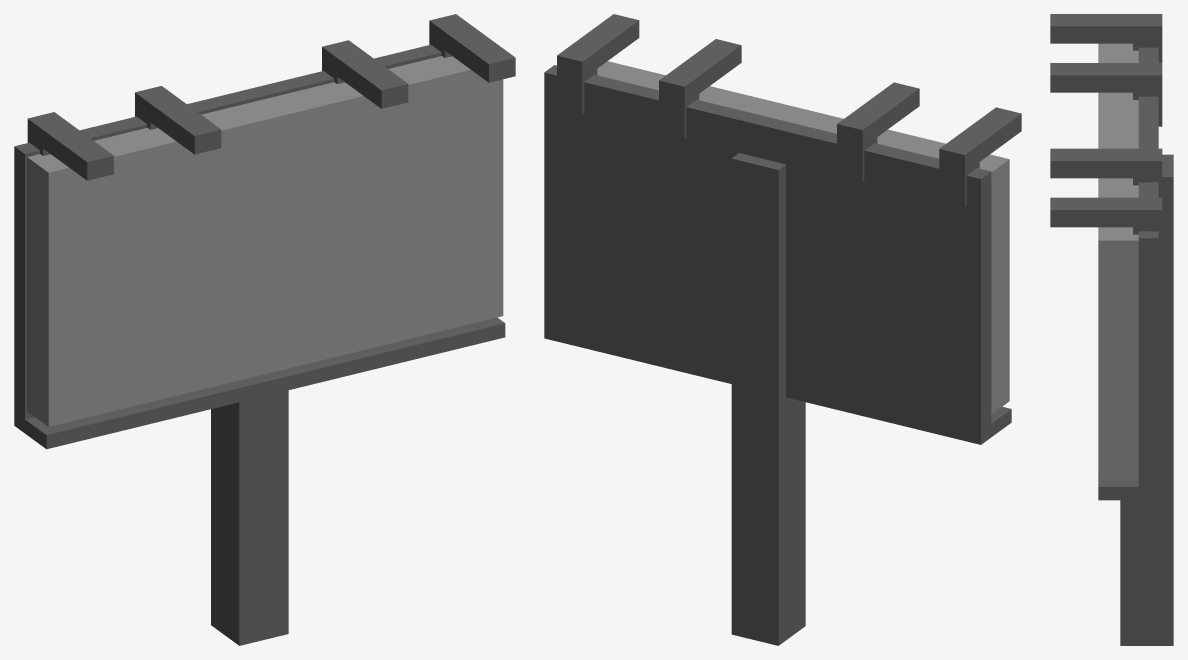
The model's file is Billboard.fbx.
The picture shows the model from 3 angles, left to right: view 1: azimuth 30°, elevation 25°; view 2: azimuth 150°, elevation 25°; view 3: azimuth 270°, elevation 25°; orthographic projection. The views are drawn at different scales.
Visible parts, largest first — view 1: Cube.097, Cube.096, Cube.098, Cube.099; view 2: Cube.097, Cube.096, Cube.098, Cube.099; view 3: Cube.097, Cube.096, Cube.099, Cube.098.
Boxes of the visible parts, <box> form: Cube.097: <box>14,44,505,449</box>; Cube.096: <box>211,390,288,645</box>; Cube.098: <box>27,14,515,180</box>; Cube.099: <box>135,40,408,154</box>; Cube.097: <box>544,61,1011,444</box>; Cube.096: <box>731,153,805,645</box>; Cube.098: <box>557,14,1021,206</box>; Cube.099: <box>659,39,919,181</box>; Cube.097: <box>1098,43,1158,500</box>; Cube.096: <box>1120,154,1173,645</box>; Cube.099: <box>1050,63,1162,197</box>; Cube.098: <box>1050,14,1162,261</box>.
Size of the model in its own units: 1012 by 1174 by 251.
